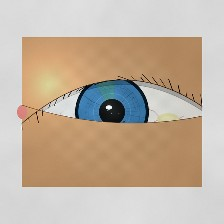pinguecula_lesion: (146, 101, 190, 137)
